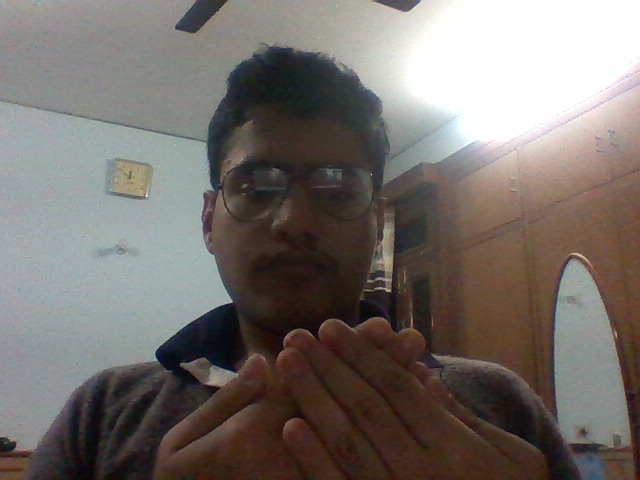Love: (161, 319, 532, 480)
